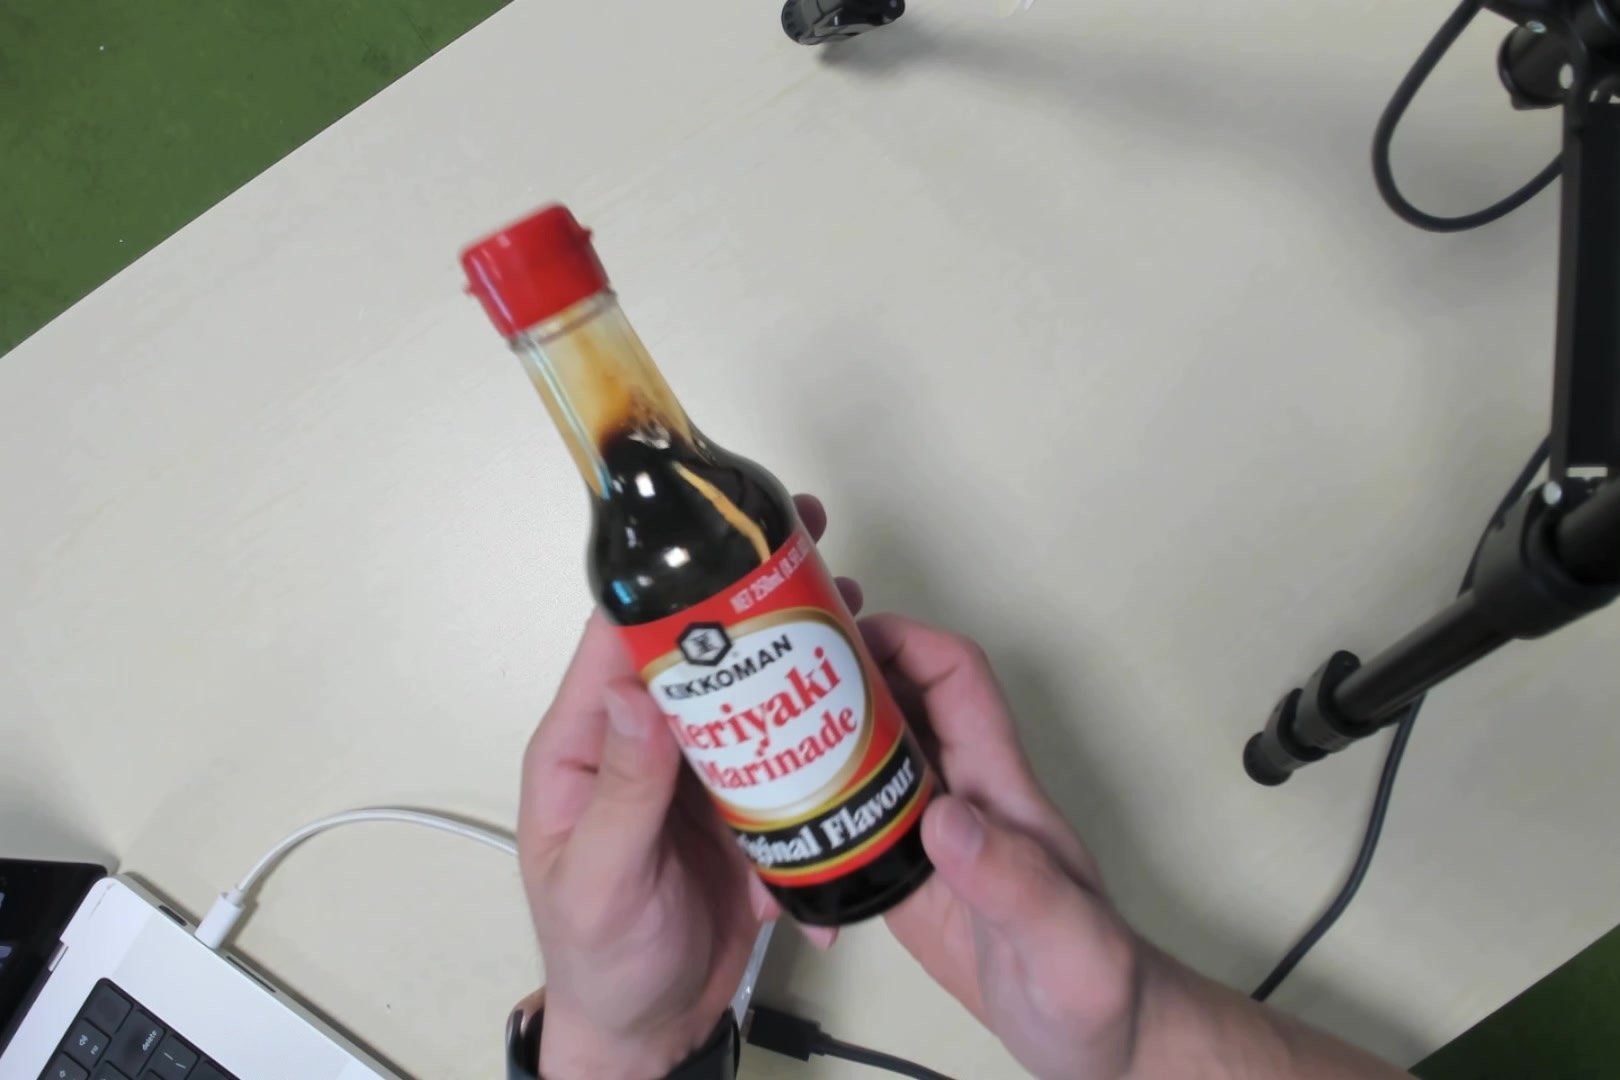OtherSauceDressingSoupbasePaste_200-299g_NonHalal_NonHealthy: (513, 235, 956, 926)
